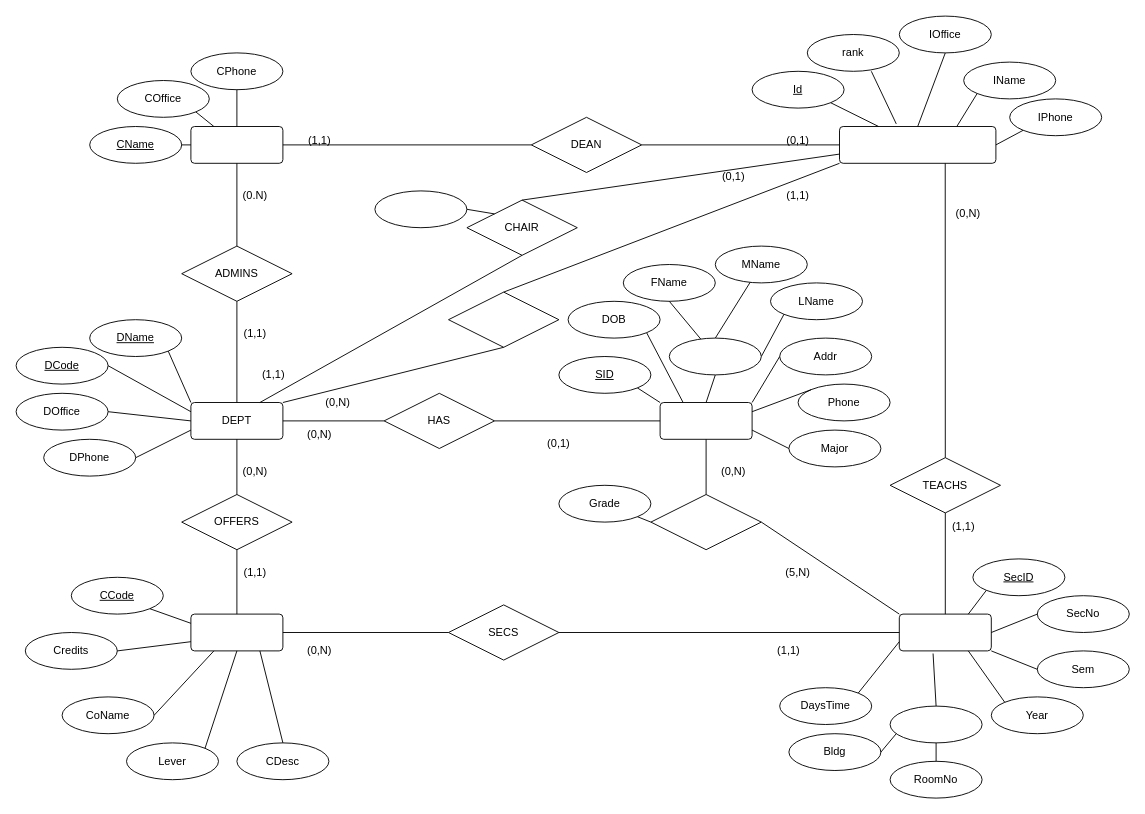
Some shapes in this 1145 by 814 pixel diagram are drawn without their labels. The shapes that lost their labels are listed below. From the top down, each one's centre as x and y in pixels, then its label:
At point (236, 144): "COLLE GE".
At point (917, 144): "INSTRUCTOR".
At point (420, 209): "CStartDate".
At point (503, 319): "EMPLOYS".
At point (714, 356): "SName".
At point (705, 420): "STUDENT".
At point (705, 522): "TAKE".
At point (236, 632): "COURSE".
At point (944, 632): "SECTION".
At point (935, 724): "CRoom".
